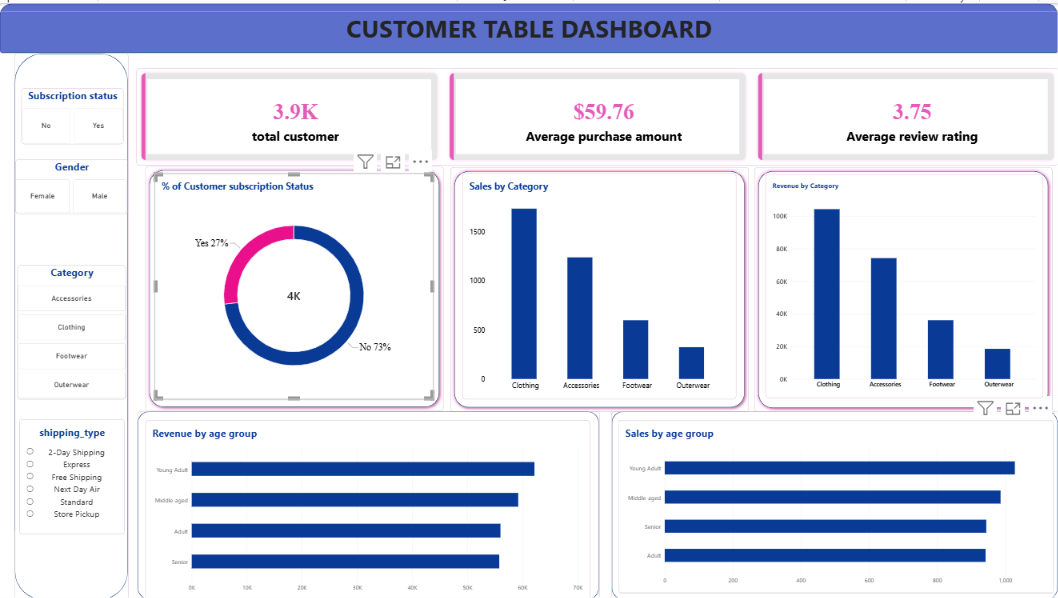

What the dashboard file says about the page in this screenshot:
{"tool":"powerbi","page":{"name":"Page 1","canvas":[2560,1440],"ordinal":0},"visuals":[{"type":"shape","box":[1090,395,720,590],"z":0},{"type":"cardVisual","fields":{"Data":["public customer.total customer","public customer.Average purchase amount","public customer.Average review rating"]},"box":[333,156.8,2227.1,234],"z":1000},{"type":"shape","box":[2.4,0,2557.7,120.6],"z":2000},{"type":"textbox","box":[2.4,19.3,2557.7,101.3],"z":3000},{"type":"shape","box":[355,392.5,719,591.2],"z":4000},{"type":"donutChart","title":"% of Customer subscription Status","fields":{"Category":["public customer.subscription_status"],"Y":["public customer.total customer"]},"box":[377.5,410,673.2,545.3],"z":5000},{"type":"clusteredColumnChart","title":"Sales by Category","fields":{"Category":["public customer.category"],"Y":["public customer.total customer"]},"box":[1120,410,661.1,545.3],"z":6000},{"type":"shape","box":[38.6,120.6,275.1,1319.8],"z":8000},{"type":"advancedSlicerVisual","title":"Subscription status","fields":{"Values":["public customer.subscription_status"]},"box":[55.5,205.1,246.2,135],"z":9000},{"type":"advancedSlicerVisual","title":"Gender","fields":{"Values":["public customer.gender"]},"box":[41,376.4,271.8,131.8],"z":10000},{"type":"advancedSlicerVisual","title":"Category","fields":{"Values":["public customer.category"]},"box":[45.8,632.2,262.5,323.8],"z":12000},{"type":"listSlicer","fields":{"Values":["public customer.shipping_type"]},"box":[50.7,1003.8,253.4,277.5],"z":13000},{"type":"shape","box":[1825,395,719,591.2],"z":13500},{"type":"shape","box":[335,985,1115,455],"z":14000},{"type":"shape","box":[1480,985,1080,455],"z":15000},{"type":"clusteredBarChart","title":"Revenue by age group","fields":{"Category":["public customer.age_group"],"Y":["Sum(public customer.purchase_amount)"]},"box":[355,1005,1072.5,435],"z":16000},{"type":"clusteredBarChart","title":"Sales by age group","fields":{"Category":["public customer.age_group"],"Y":["CountNonNull(public customer.customer_id)"]},"box":[1495,1005,1050,417.5],"z":17000},{"type":"clusteredColumnChart","title":"Revenue by Category","fields":{"Category":["public customer.category"],"Y":["Sum(public customer.purchase_amount)"]},"box":[1850,412.5,670,540],"z":17500}]}

Visuals, with their boxes in screenshot pixels (x1, y1, x2, y2), scaled from the page's 2560x1440 canvas onto the 1058x598 screenshot:
shape: rect(450, 164, 748, 409)
cardVisual - public customer.total customer x public customer.Average purchase amount: rect(138, 65, 1057, 162)
shape: rect(1, 0, 1057, 50)
textbox: rect(1, 8, 1057, 50)
shape: rect(147, 163, 444, 409)
"% of Customer subscription Status" donutChart: rect(156, 170, 434, 397)
"Sales by Category" clusteredColumnChart: rect(463, 170, 736, 397)
shape: rect(16, 50, 130, 597)
"Subscription status" advancedSlicerVisual: rect(23, 85, 125, 141)
"Gender" advancedSlicerVisual: rect(17, 156, 129, 211)
"Category" advancedSlicerVisual: rect(19, 263, 127, 397)
listSlicer - public customer.shipping_type: rect(21, 417, 126, 532)
shape: rect(754, 164, 1051, 410)
shape: rect(138, 409, 599, 597)
shape: rect(612, 409, 1057, 597)
"Revenue by age group" clusteredBarChart: rect(147, 417, 590, 597)
"Sales by age group" clusteredBarChart: rect(618, 417, 1052, 591)
"Revenue by Category" clusteredColumnChart: rect(765, 171, 1041, 396)
